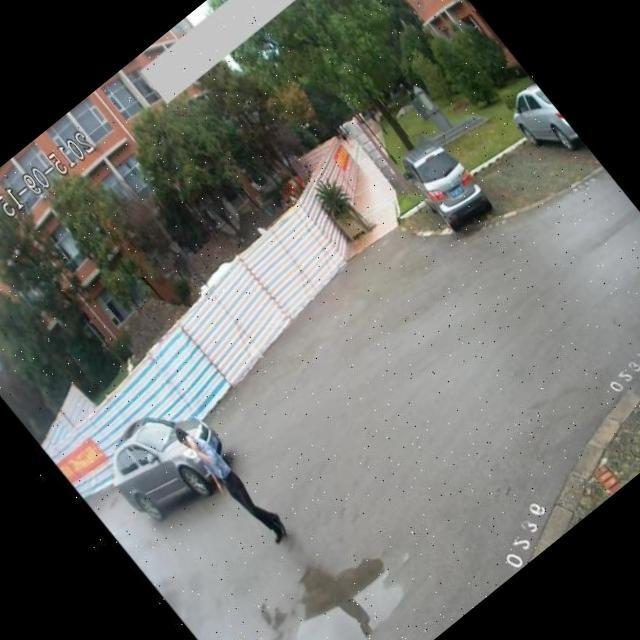person: (169, 408, 303, 562)
